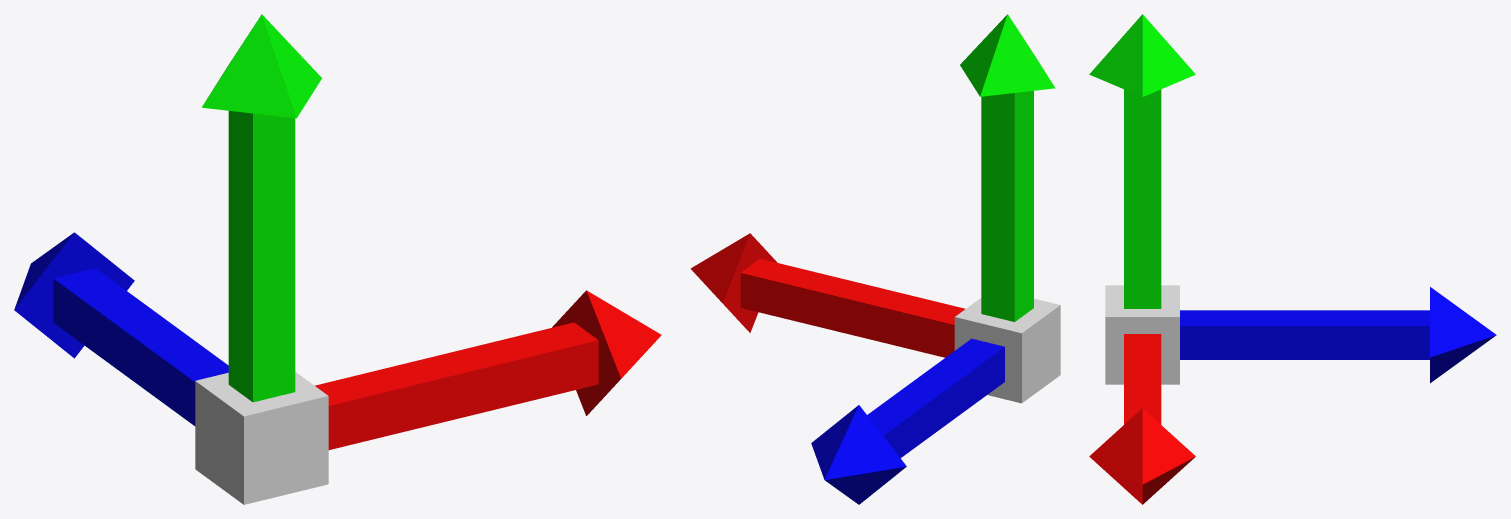
Rendered from translate.fbx.
3 views of the same model, side by side, from view 1: azimuth 30°, elevation 25°; view 2: azimuth 150°, elevation 25°; view 3: azimuth 270°, elevation 25° (orthographic). The views are drawn at different scales.
Parts seen in each view (by area): view 1: Cube.001; view 2: Cube.001; view 3: Cube.001.
Boxes of the visible parts, bbox=[...] form: Cube.001: bbox=[14, 14, 661, 504]; Cube.001: bbox=[690, 14, 1060, 504]; Cube.001: bbox=[1089, 14, 1496, 504].
Bounding box in the file's own units: 381 × 381 × 381.
